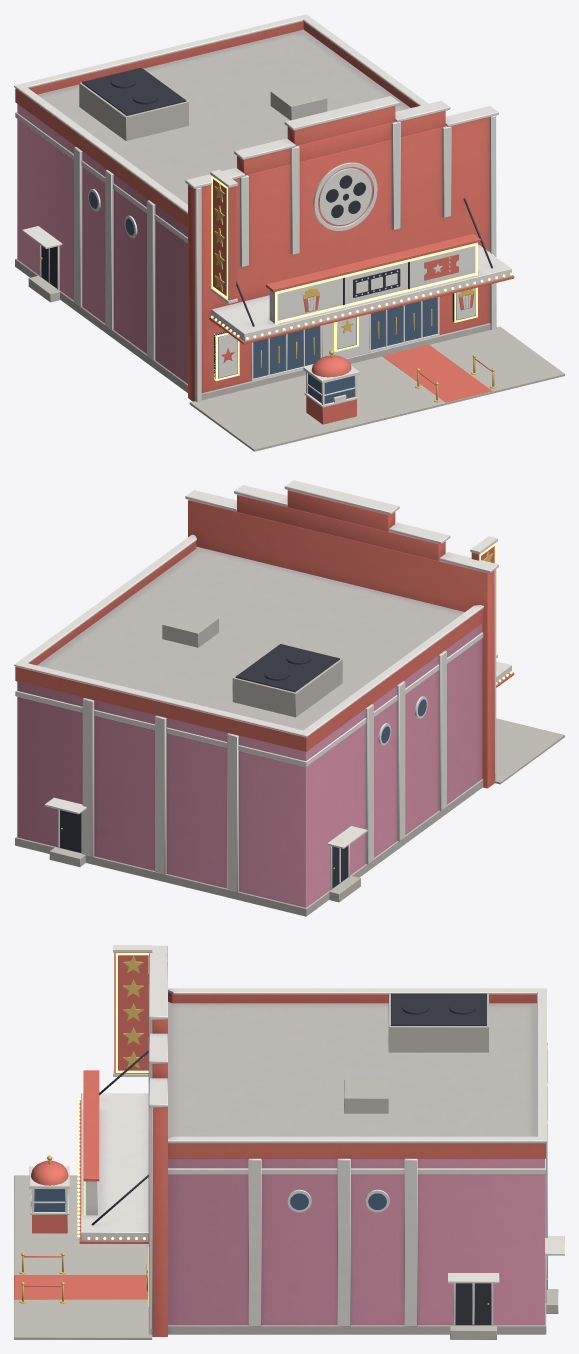
File: cinema.glb
3 views of the same model, one above another, from view 1: azimuth 30°, elevation 25°; view 2: azimuth 150°, elevation 25°; view 3: azimuth 270°, elevation 25° (orthographic). The views are drawn at different scales.
Parts seen in each view (by area): view 1: cinema_body, cinema_details, cinema_emblems, cinema_lights; view 2: cinema_body, cinema_details; view 3: cinema_body, cinema_details, cinema_emblems, cinema_lights.
Part boxes in pixels (x1=…): cinema_body: x1=14, y1=14, x2=514, y2=401; cinema_details: x1=22, y1=67, x2=564, y2=451; cinema_emblems: x1=210, y1=162, x2=458, y2=312; cinema_lights: x1=211, y1=175, x2=512, y2=380; cinema_body: x1=14, y1=480, x2=514, y2=916; cinema_details: x1=44, y1=609, x2=564, y2=902; cinema_body: x1=79, y1=945, x2=547, y2=1336; cinema_details: x1=14, y1=993, x2=564, y2=1339; cinema_emblems: x1=83, y1=945, x2=152, y2=1189; cinema_lights: x1=77, y1=953, x2=148, y2=1306.
Size of the model in its own units: 17.8 by 13.36 by 24.7.
12 materials, 1 textured.
